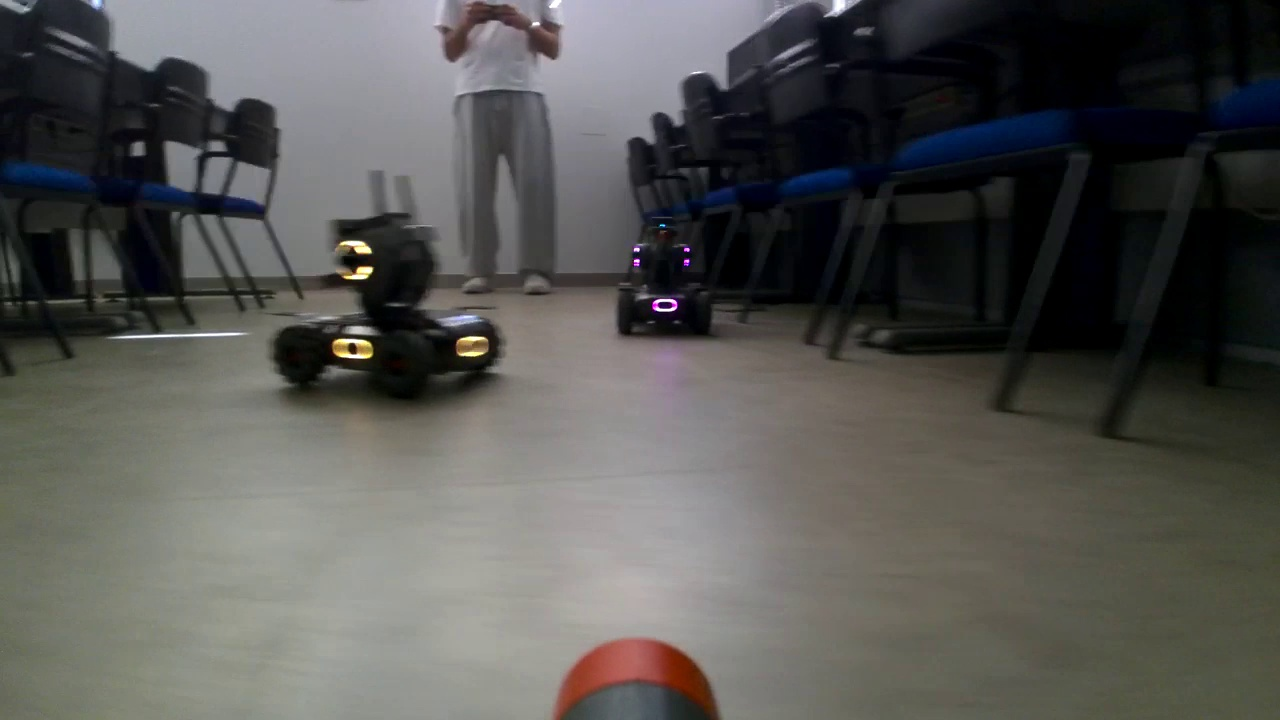robot: (269, 174, 509, 389), (616, 217, 713, 337)
